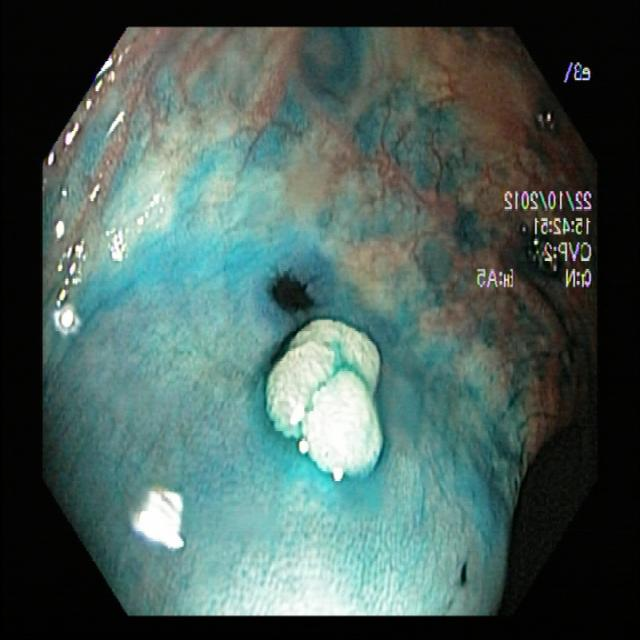dyed-lifted-polyps: (244, 311, 395, 495)
